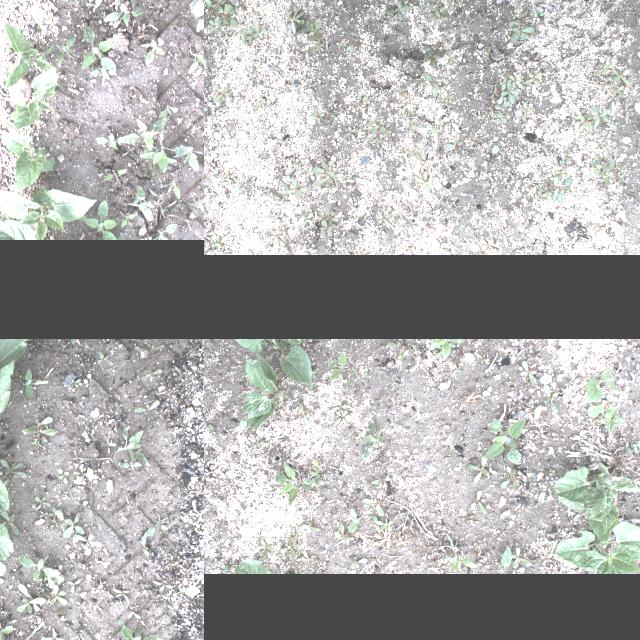crop: (549, 460, 640, 536), (212, 339, 313, 393), (0, 190, 95, 240), (549, 522, 640, 574), (234, 358, 282, 438), (0, 130, 56, 196), (1, 21, 54, 89), (13, 68, 55, 132), (0, 339, 26, 391), (0, 220, 36, 239)
weed: (478, 408, 526, 468), (136, 130, 192, 176), (274, 458, 322, 508), (581, 400, 623, 442), (80, 27, 118, 71), (117, 118, 167, 150), (84, 200, 124, 240), (431, 538, 481, 570), (584, 364, 618, 404), (123, 184, 155, 222), (119, 426, 148, 464), (313, 165, 353, 191), (464, 450, 496, 482), (588, 156, 618, 186), (224, 555, 274, 573), (103, 2, 143, 24), (356, 424, 379, 462), (112, 623, 163, 640), (148, 188, 176, 218), (20, 558, 58, 580), (424, 339, 462, 361), (508, 10, 534, 42), (538, 176, 572, 200), (512, 354, 536, 386), (489, 78, 518, 104), (499, 468, 528, 494), (588, 104, 616, 130), (360, 489, 386, 517), (501, 546, 533, 568), (542, 383, 560, 421), (286, 3, 308, 33), (206, 3, 236, 25), (328, 349, 346, 383), (381, 339, 403, 366), (187, 40, 204, 74), (22, 418, 54, 436), (56, 37, 76, 65), (23, 369, 44, 395), (305, 20, 323, 50), (60, 513, 82, 537), (282, 178, 308, 198), (371, 516, 392, 540), (145, 37, 163, 64), (147, 224, 177, 240), (0, 459, 24, 479), (284, 521, 300, 551), (17, 598, 45, 614), (488, 101, 508, 123), (421, 46, 443, 66), (144, 518, 168, 536), (326, 405, 344, 429), (1, 512, 20, 534), (95, 133, 121, 149), (75, 534, 101, 550), (188, 192, 204, 217), (468, 490, 488, 510), (385, 4, 409, 20), (344, 556, 368, 572), (0, 112, 17, 134), (91, 66, 117, 80), (160, 180, 180, 198), (212, 84, 232, 102), (182, 148, 198, 170), (423, 74, 439, 96), (20, 10, 34, 34), (320, 220, 334, 244), (132, 400, 160, 412), (347, 506, 358, 536), (157, 104, 177, 120), (611, 69, 631, 85), (416, 172, 432, 192), (142, 366, 162, 382), (102, 169, 128, 181), (208, 15, 222, 37), (152, 580, 174, 594), (576, 114, 592, 132), (518, 102, 534, 120), (436, 90, 454, 106), (111, 589, 129, 605), (50, 586, 66, 604), (195, 0, 204, 31), (429, 8, 446, 24), (432, 238, 448, 254), (210, 235, 226, 251), (34, 494, 50, 510), (120, 211, 134, 229), (594, 208, 612, 222), (42, 630, 67, 640), (479, 239, 495, 253), (238, 28, 252, 44), (139, 536, 149, 558), (524, 73, 542, 85), (0, 208, 14, 223), (0, 619, 10, 640), (44, 575, 64, 585), (376, 212, 390, 226), (343, 126, 357, 140), (621, 102, 633, 118), (596, 64, 612, 76), (251, 26, 267, 38), (508, 75, 522, 88), (67, 376, 81, 389), (0, 45, 10, 62), (612, 84, 624, 98), (300, 213, 312, 227), (100, 440, 114, 452), (67, 579, 79, 593), (18, 584, 30, 598), (126, 611, 142, 621), (56, 467, 66, 483), (74, 467, 88, 478), (443, 140, 462, 148), (117, 0, 145, 5), (440, 0, 454, 10), (120, 462, 142, 468), (95, 350, 108, 360), (31, 438, 44, 448), (2, 475, 15, 485), (49, 508, 56, 522), (177, 588, 186, 596), (149, 345, 161, 351), (57, 508, 63, 520), (204, 0, 211, 10), (63, 339, 80, 343), (132, 602, 140, 610), (76, 602, 86, 608), (32, 603, 38, 613), (38, 512, 46, 518), (92, 586, 100, 592), (56, 616, 64, 622), (200, 439, 204, 447)
